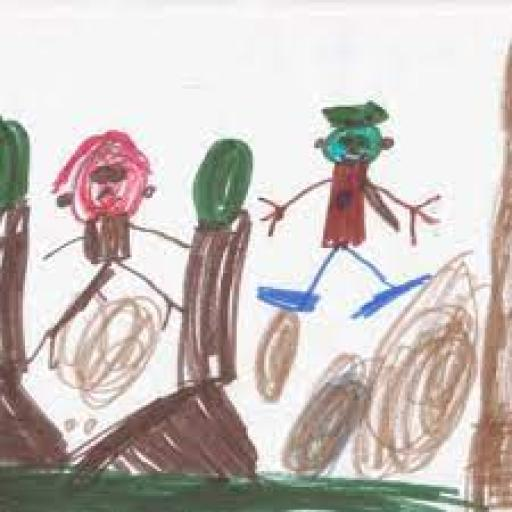person: (254, 76, 443, 328), (14, 126, 200, 382)
